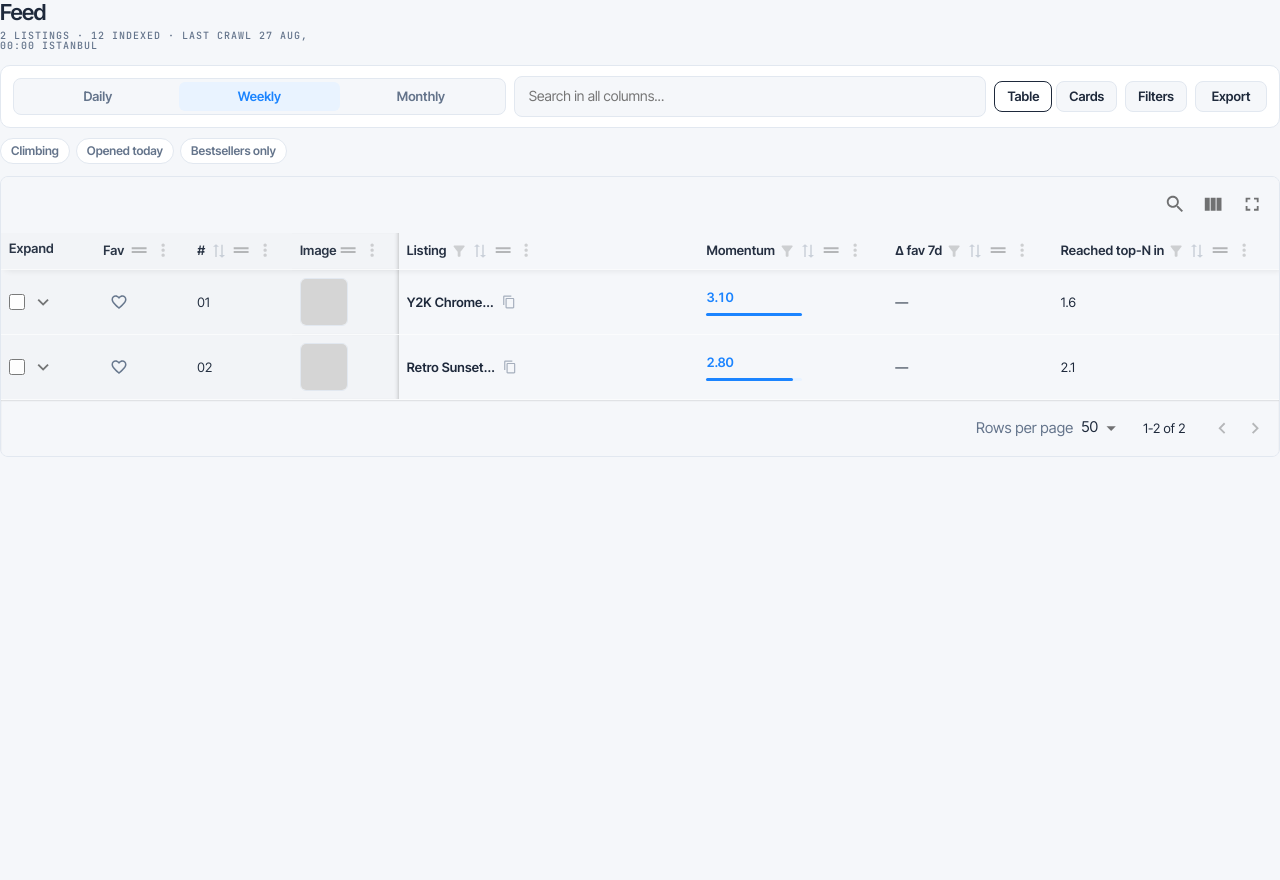
Test: FeedPage › shows core table columns and full metrics in the expand panel
Expected: the link "Y2K Chrome..." is shown, [407,294,494,310]
Expected: the link "Retro Sunset..." is shown, [407,359,495,375]
Click the button named "Expand" next to "01". click: [43, 302]
box: [29,288,57,316]
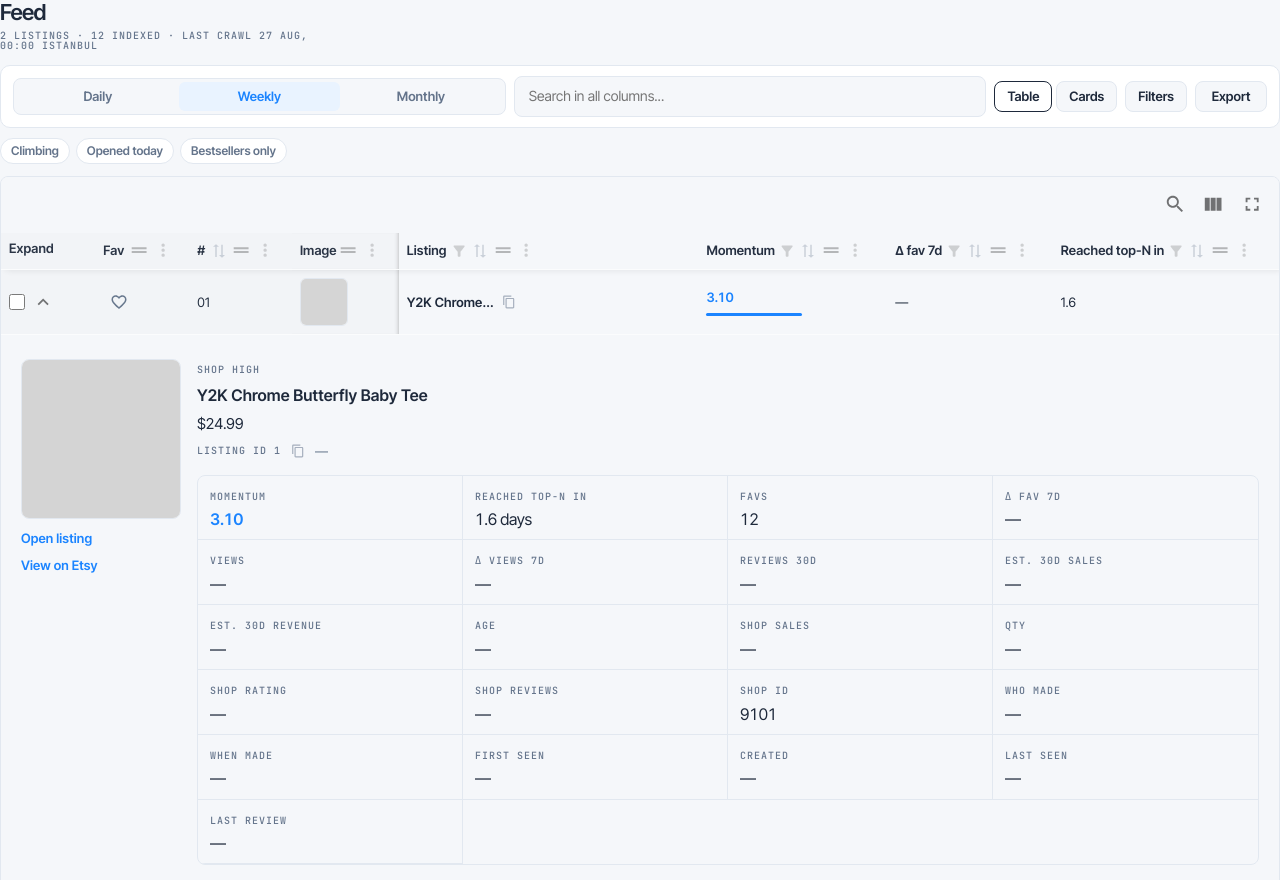
Expected: the text "1.6 days" is shown, [475,509,532,529]
